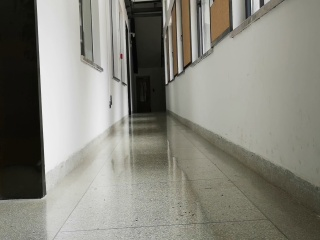room: (2, 3, 50, 200)
